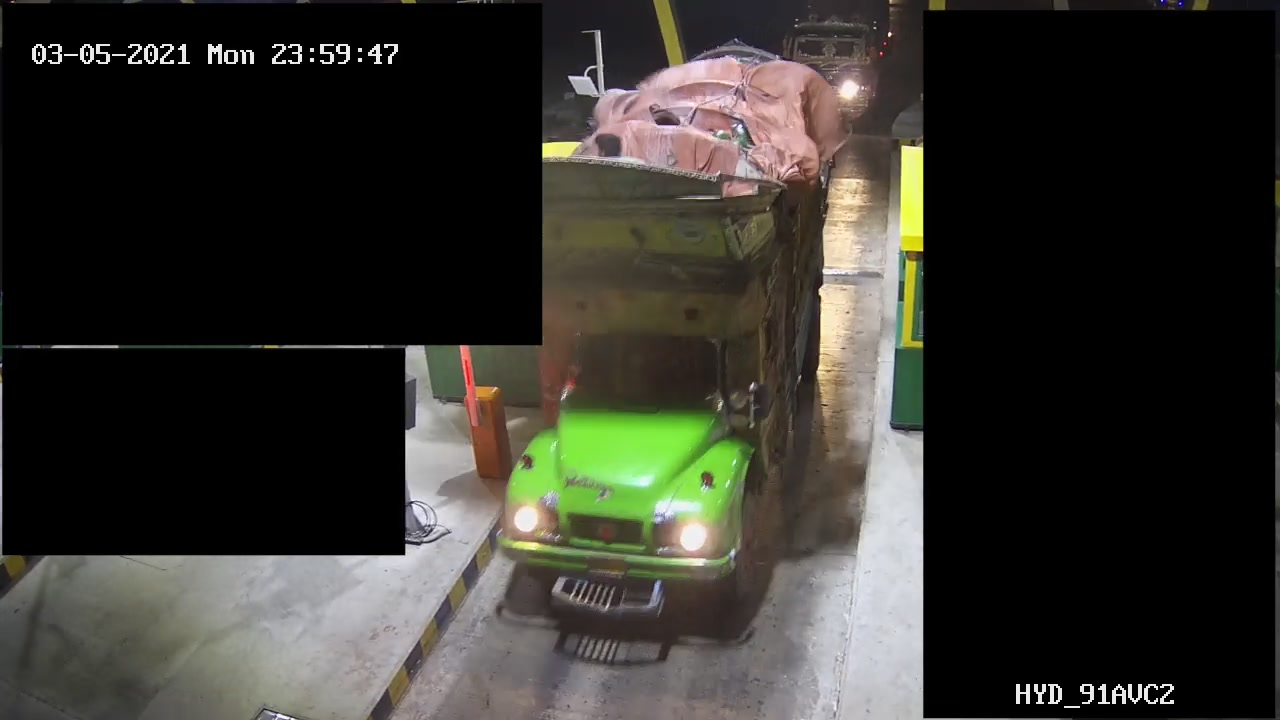F5: (465, 32, 848, 647)
